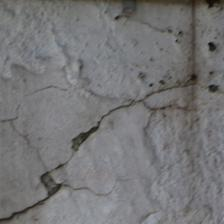Crack: (0, 78, 134, 194), (37, 89, 97, 158)
